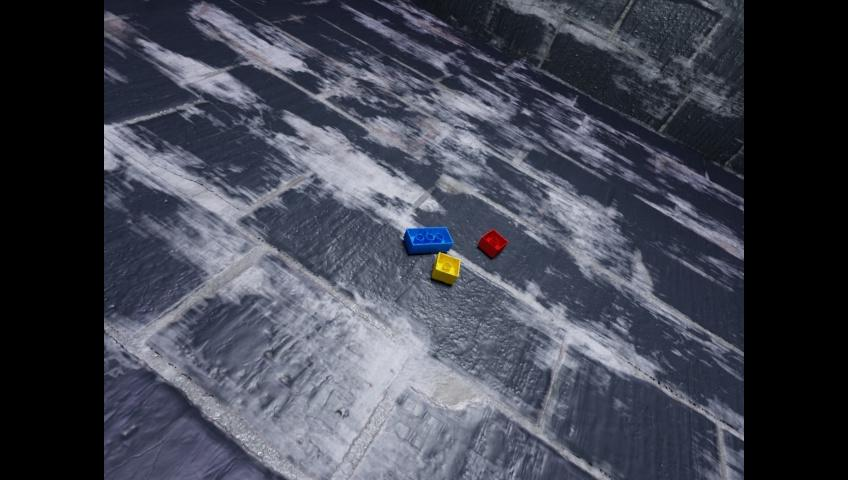2x2_red: (477, 228, 507, 257)
2x2_yellow: (431, 252, 459, 284)
4x2_blue: (403, 226, 452, 253)
